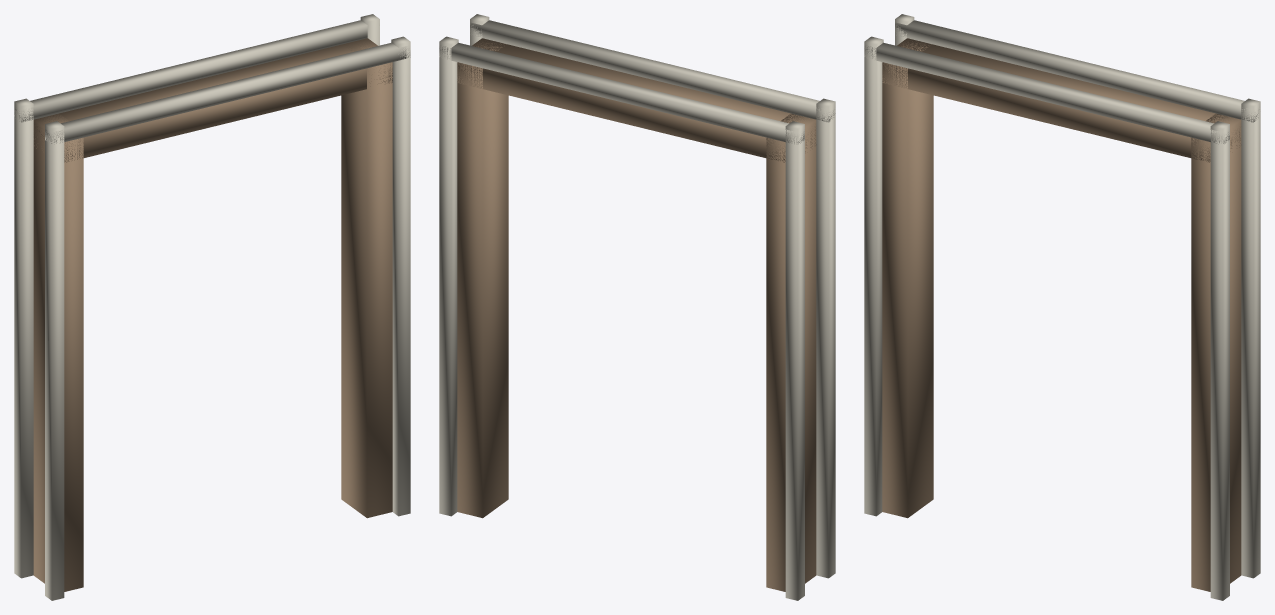
Rendered from doorway_painted_trim_w152_h220_d24.glb.
3 views of the same model, side by side, from view 1: azimuth 30°, elevation 25°; view 2: azimuth 150°, elevation 25°; view 3: azimuth 330°, elevation 25° (orthographic).
Visible parts, largest first — view 1: world; view 2: world; view 3: world.
Boxes of the visible parts, x1=… form: world: x1=14, y1=14, x2=410, y2=600; world: x1=439, y1=14, x2=835, y2=600; world: x1=864, y1=14, x2=1260, y2=600.
Size of the model in its own units: 1.92 by 2.42 by 0.3516.
